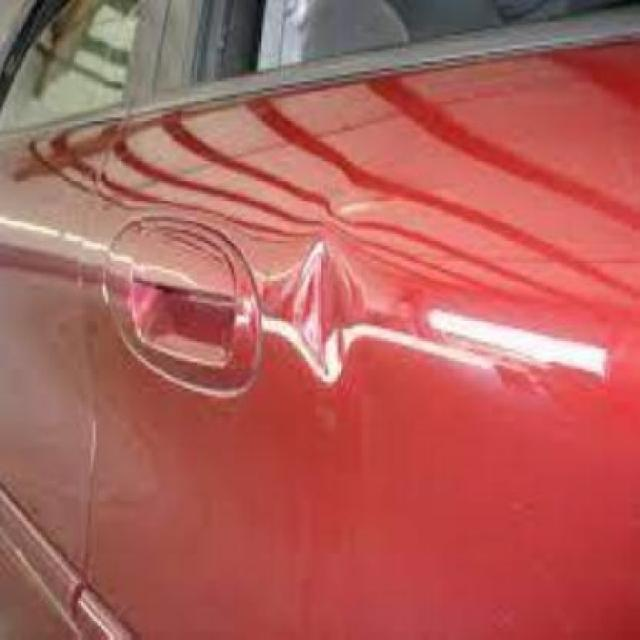minor: (283, 232, 365, 383)
